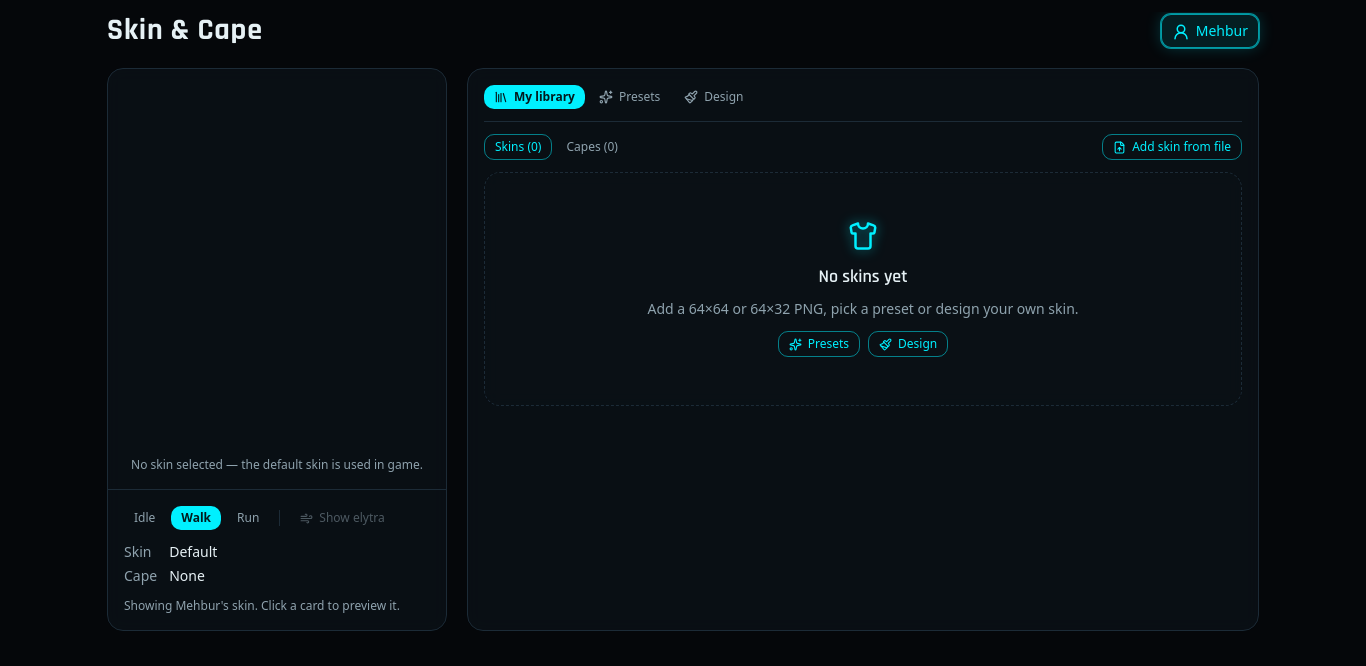
SkinMC gallery › searches a tag, loads more and switches the sort order
The width and height of the screenshot is (1366, 666).
Click the tab "Presets" at (630, 97), box [589,85,670,109]
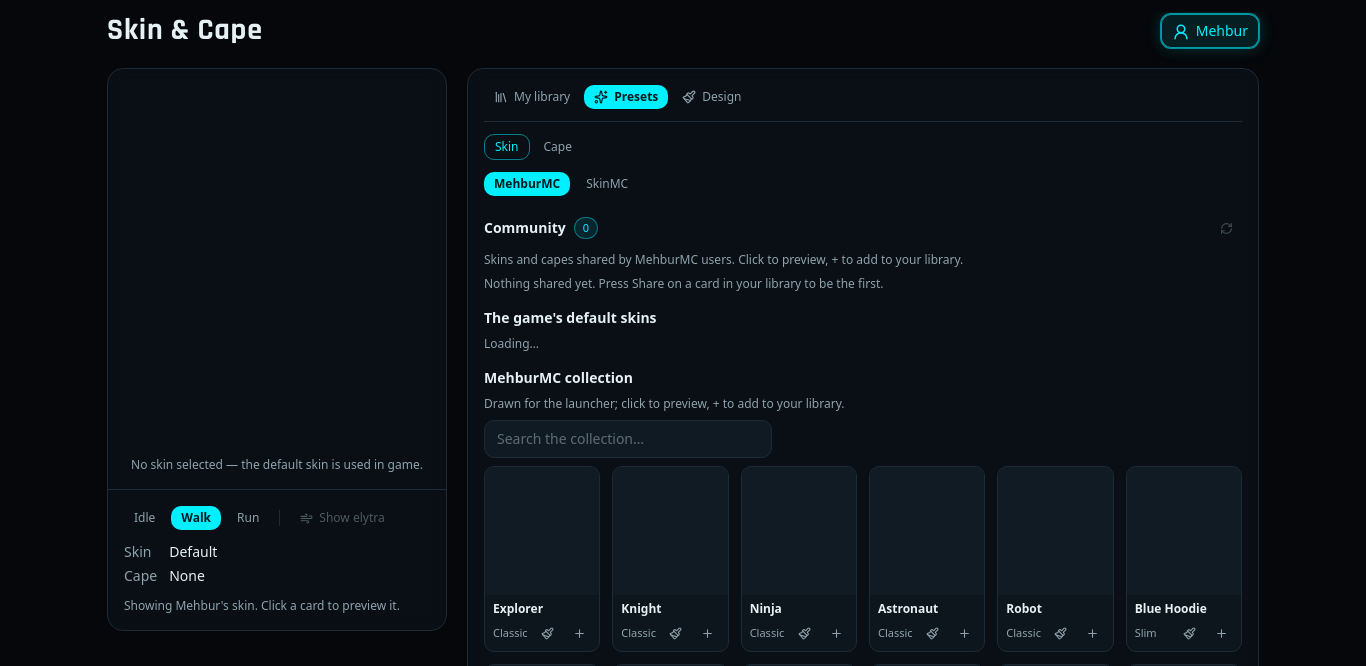
Click the button "SkinMC" at (607, 184), box [576,172,638,196]
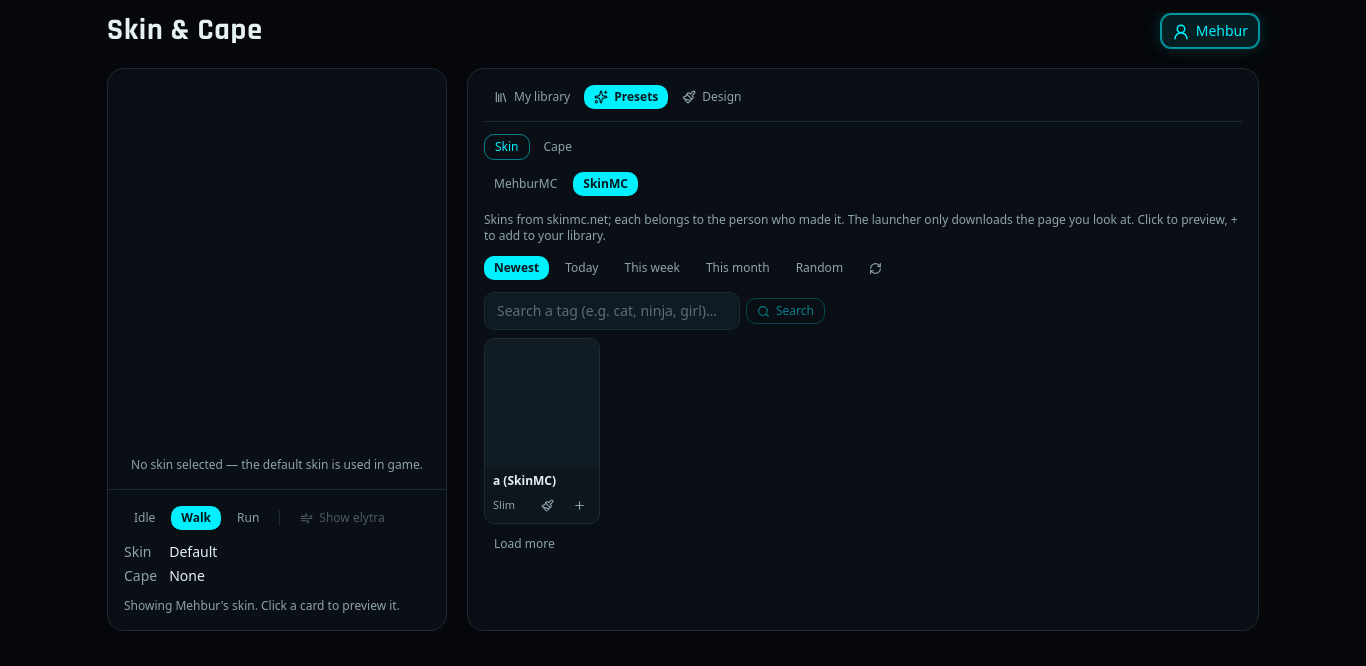
Now the text "a (SkinMC)" is shown, box [493,472,556,489]
Type "cat" into the field labelled "tag" at (612, 311), box [484,292,740,330]
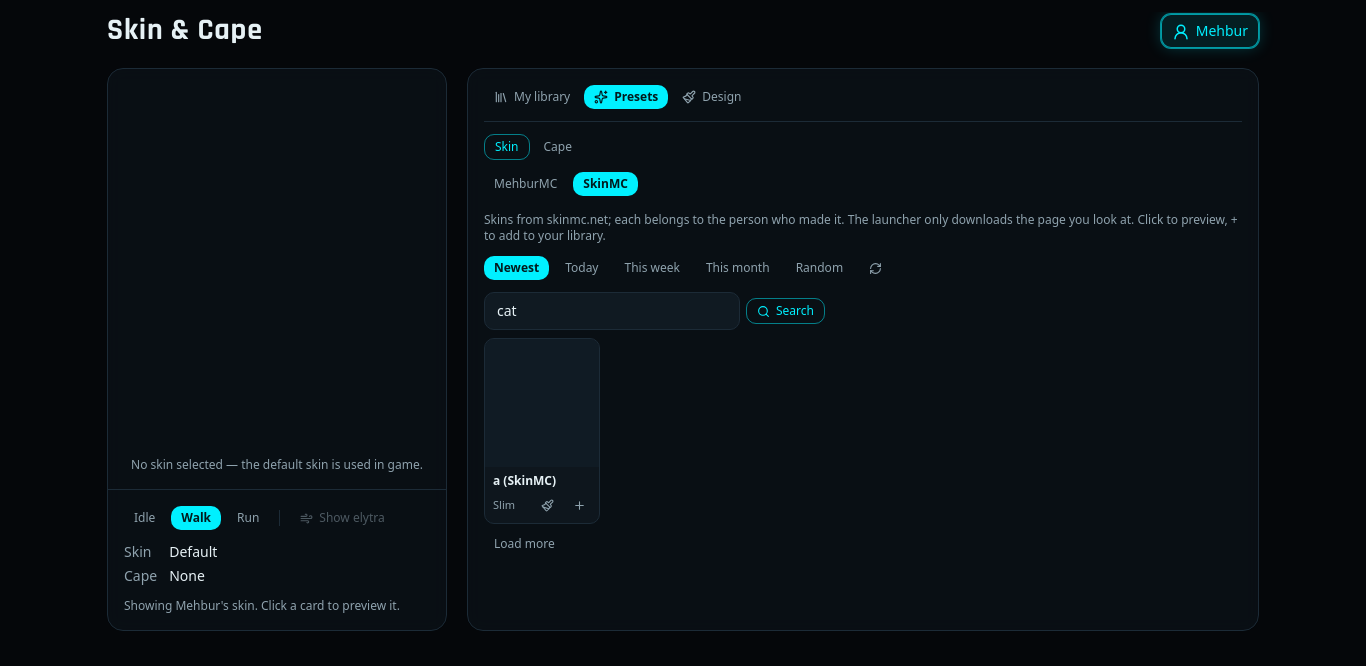
Click the button "Search" at (786, 311), box [746,298,825,324]
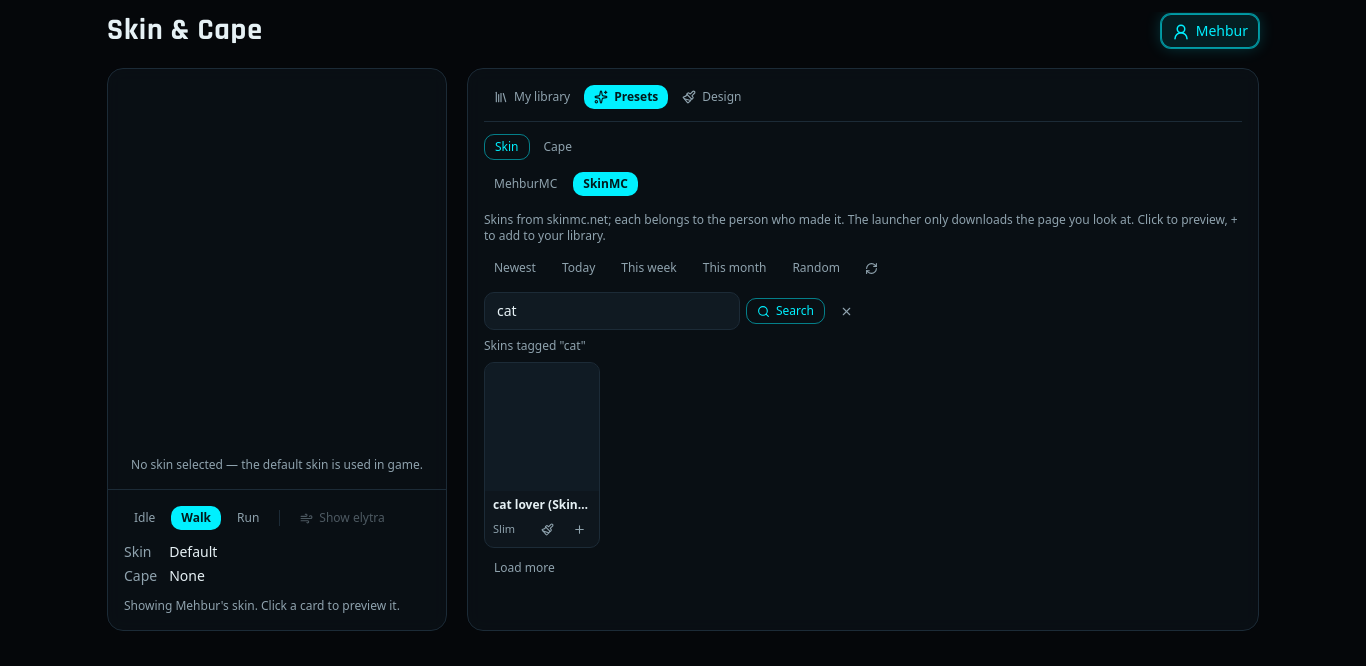
Now the text "Skins tagged \"cat\"" is shown, box [484,337,586,354]
Click the button "Load more" at (524, 568), box [484,556,565,580]
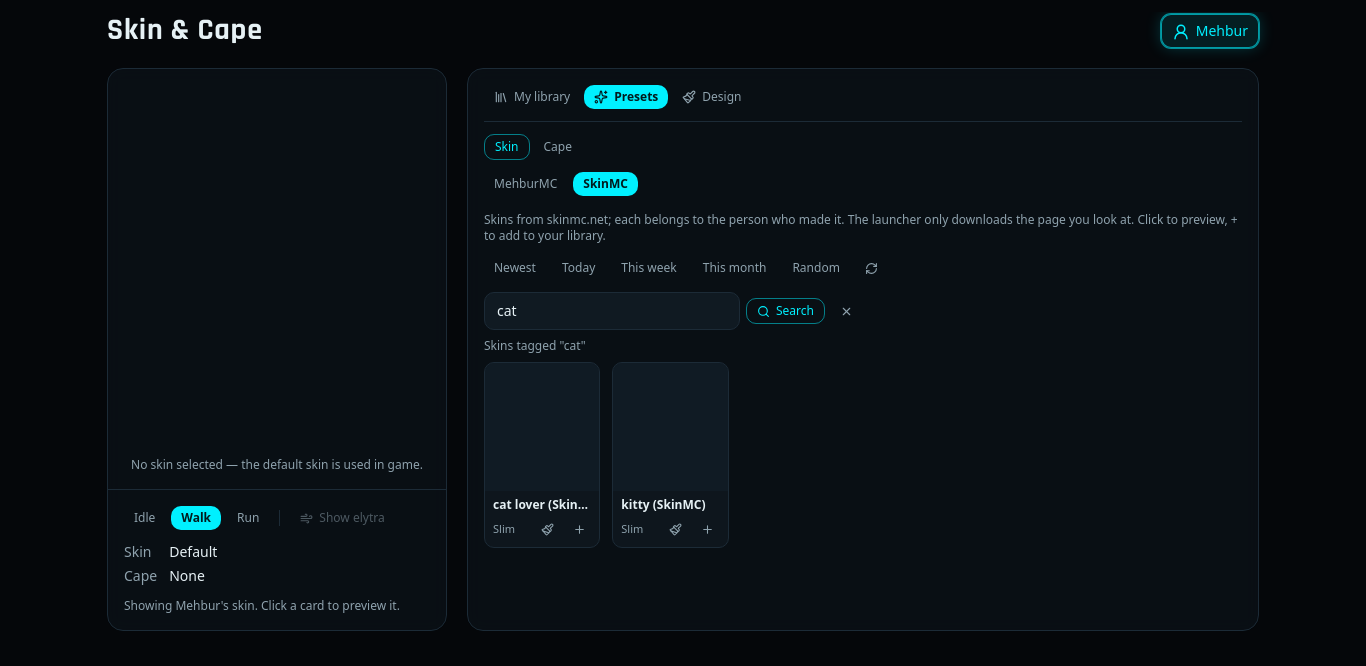
Now the text "cat lover (SkinMC)" is shown once, box [493,497,591,513]
Now the text "kitty (SkinMC)" is shown, box [621,497,720,513]
Now the button "Load more" is gone
Click the button "This week" at (649, 268), box [611,256,687,280]
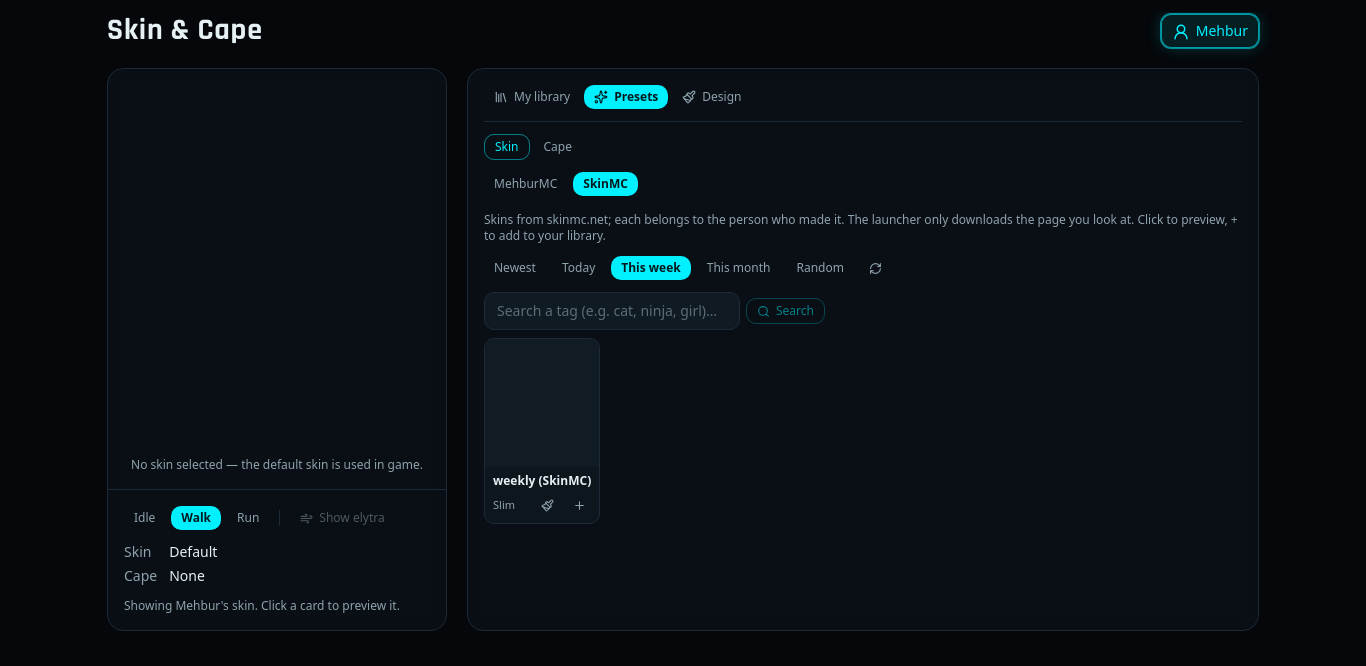
Now the text "weekly (SkinMC)" is shown, box [493,473,591,489]
